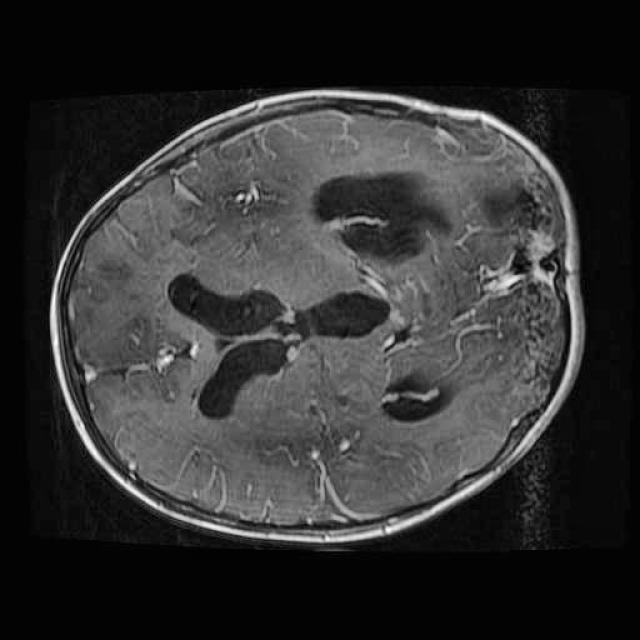Tumor: (293, 150, 475, 284)
